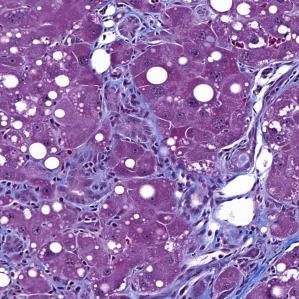fibrosis: (184, 161, 270, 234), (96, 82, 167, 149), (184, 249, 282, 292), (91, 4, 168, 47)
